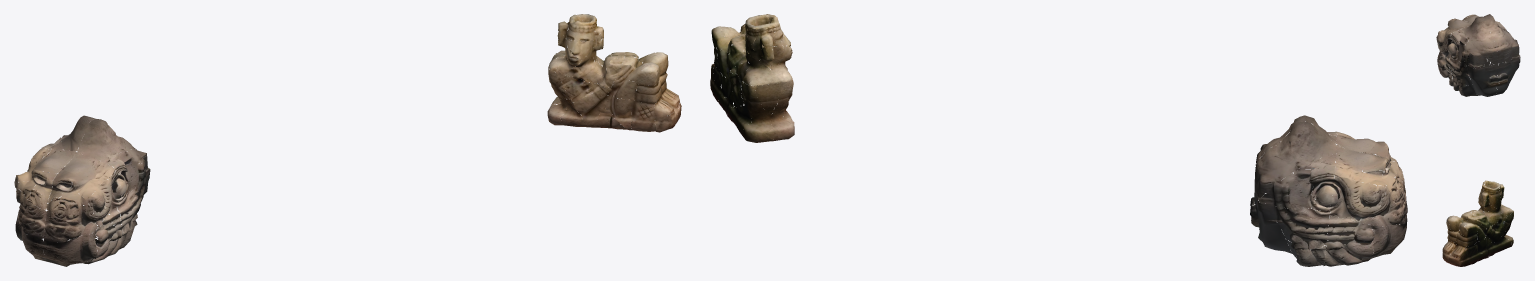
File: mayor-transformed.glb
3 renders of one model, left to right at view 1: azimuth 30°, elevation 25°; view 2: azimuth 150°, elevation 25°; view 3: azimuth 270°, elevation 25°, orthographic. The views are drawn at different scales.
Visible parts, largest first — view 1: tripo_node_000d3b46-8538-4f86-8917-2fd001ee39c1, geometry_0; view 2: tripo_node_000d3b46-8538-4f86-8917-2fd001ee39c1, geometry_0; view 3: tripo_node_000d3b46-8538-4f86-8917-2fd001ee39c1, geometry_0.
Boxes of the visible parts, x1=… form: tripo_node_000d3b46-8538-4f86-8917-2fd001ee39c1: x1=14, y1=115, x2=150, y2=266; geometry_0: x1=547, y1=14, x2=681, y2=132; tripo_node_000d3b46-8538-4f86-8917-2fd001ee39c1: x1=1250, y1=115, x2=1407, y2=266; geometry_0: x1=710, y1=14, x2=794, y2=142; tripo_node_000d3b46-8538-4f86-8917-2fd001ee39c1: x1=1436, y1=14, x2=1520, y2=96; geometry_0: x1=1442, y1=180, x2=1513, y2=266.
Bounding box in the file's own units: 4.86 × 0.8988 × 0.8664.
2 materials, 2 textured.
